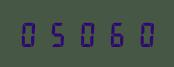five: (45, 20, 71, 47)
six: (99, 20, 125, 47)
zero: (18, 20, 44, 47), (72, 20, 98, 47), (126, 20, 152, 47)
